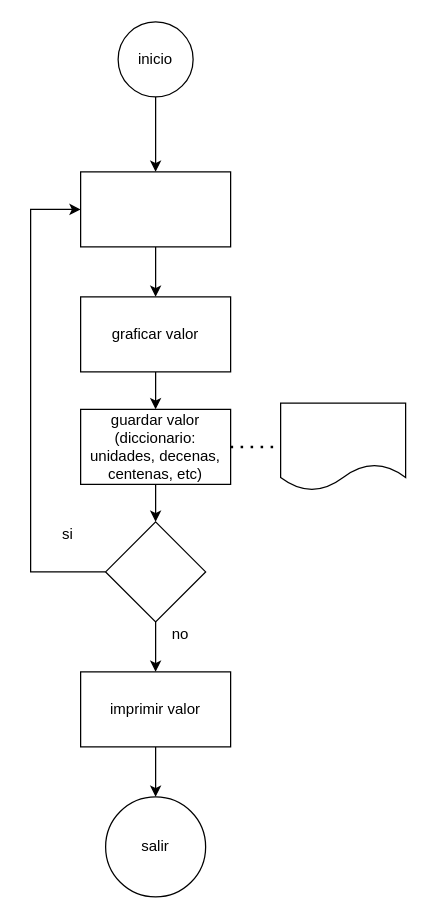
Image size: 428x919. Some labels were removed from this diagram. Each missing label, with the box of its shape:
ingresar valor (input): (79, 171, 231, 247)
lista intentos: (279, 402, 406, 491)
¿desea continuar?: (104, 521, 206, 622)
